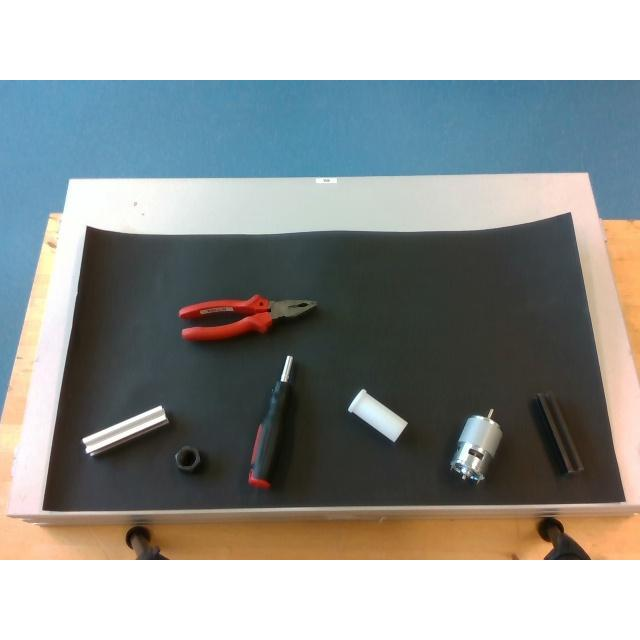F20_20_B: (535, 392, 583, 472)
F20_20_G: (82, 406, 170, 454)
M20: (174, 445, 202, 471)
Motor2: (450, 408, 502, 484)
Spacer: (348, 389, 408, 441)
